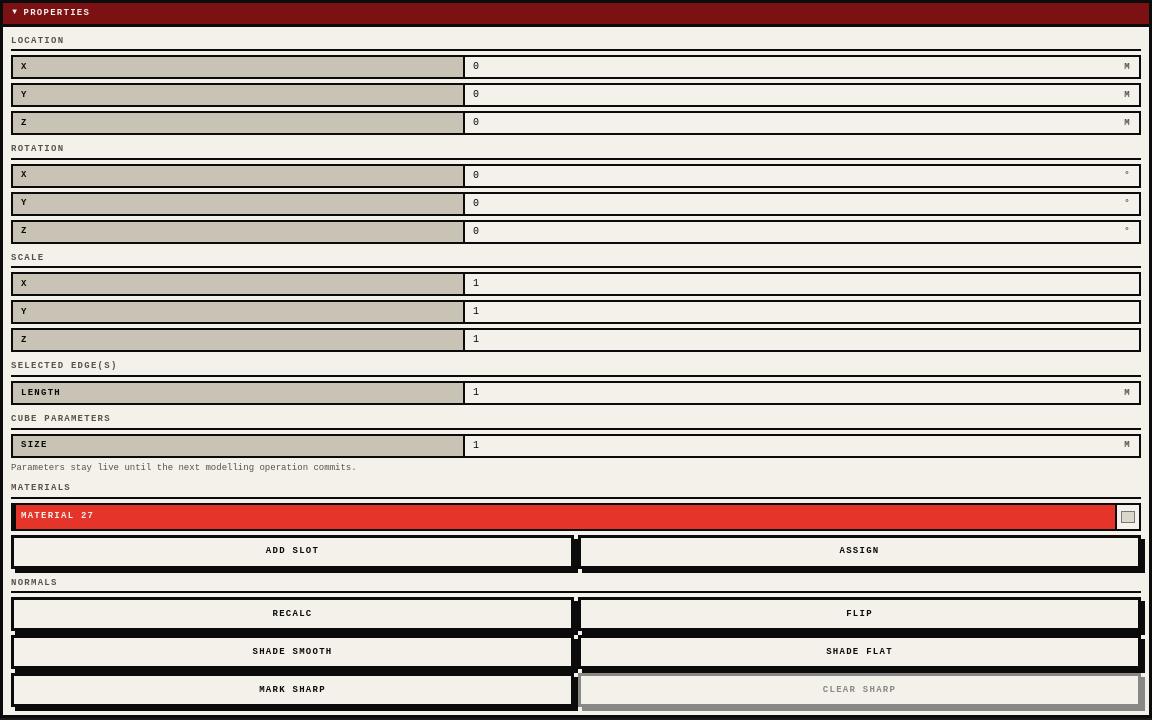
PropertiesPanel selected edge(s) › leaves the edge alone when the field is emptied and left
Clear the field labelled "LENGTH": (795, 393) [465, 384, 1124, 402]
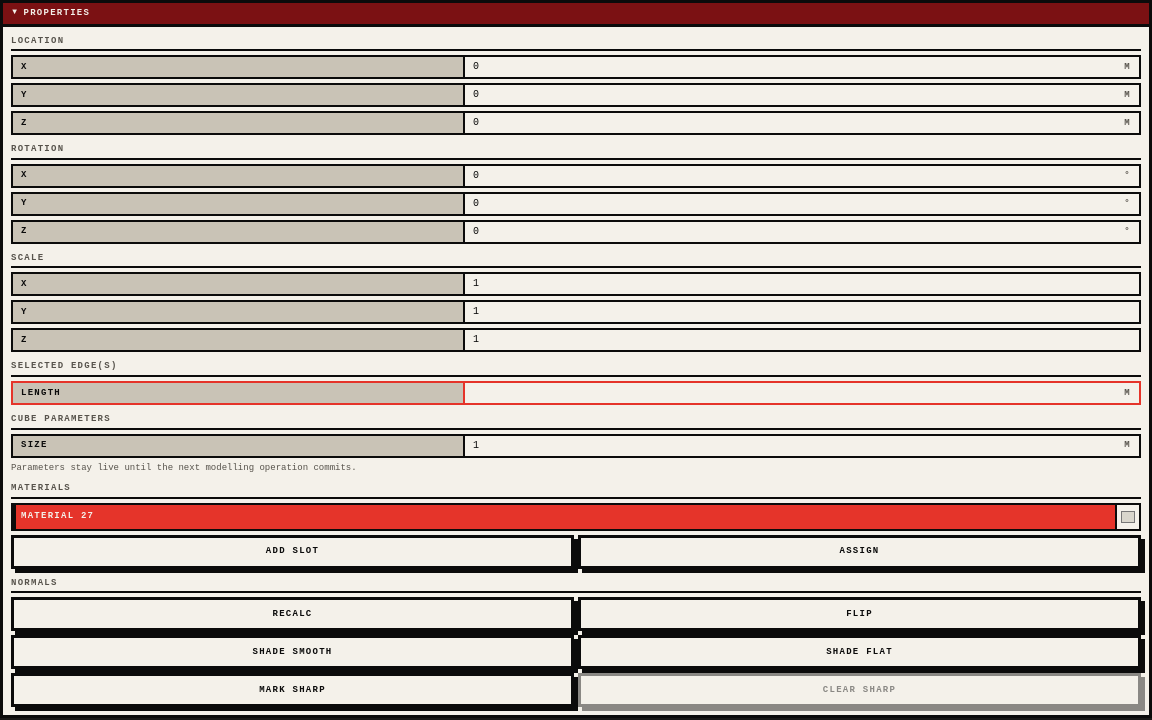
Press Tab
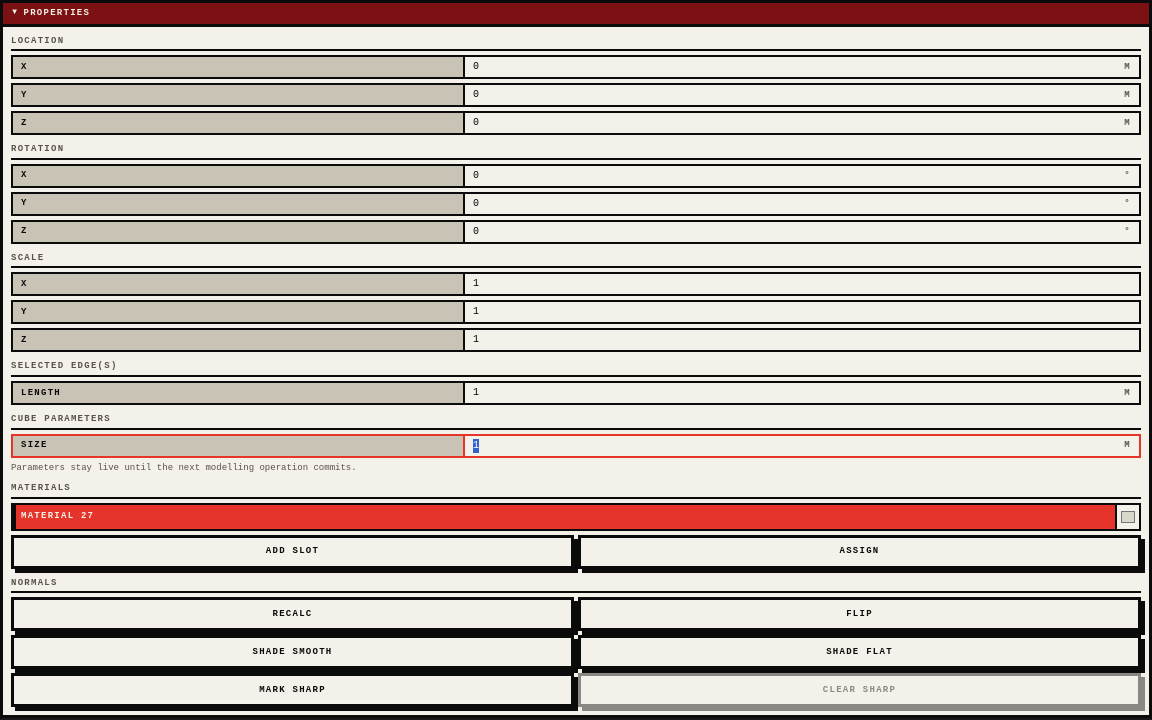
Expected: the field labelled "LENGTH" holds "1", [465, 384, 1124, 402]
